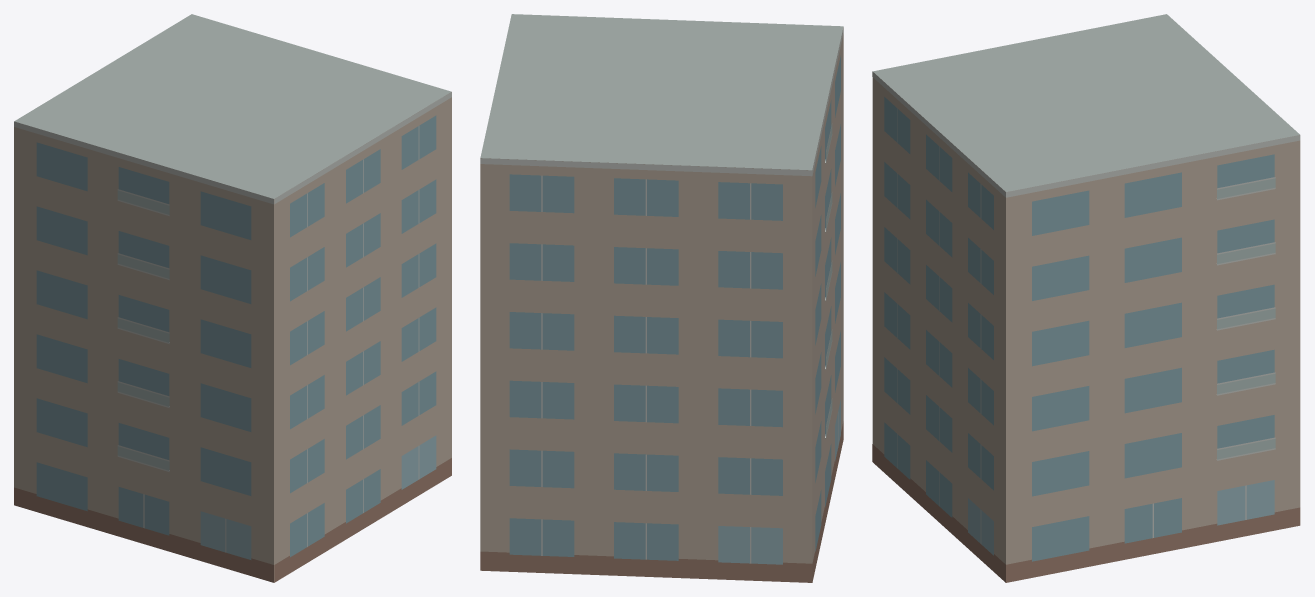
The model's file is survey-upis-32742263.glb.
3 renders of one model, left to right at view 1: azimuth 30°, elevation 25°; view 2: azimuth 150°, elevation 25°; view 3: azimuth 270°, elevation 25°, orthographic. The views are drawn at different scales.
Parts seen in each view (by area): view 1: survey-upis-32742263.tmp; view 2: survey-upis-32742263.tmp; view 3: survey-upis-32742263.tmp.
Boxes of the visible parts, x1=… form: survey-upis-32742263.tmp: x1=14, y1=14, x2=451, y2=582; survey-upis-32742263.tmp: x1=480, y1=14, x2=843, y2=582; survey-upis-32742263.tmp: x1=872, y1=14, x2=1300, y2=582.
Size of the model in its own units: 16.59 by 16.95 by 16.83.
